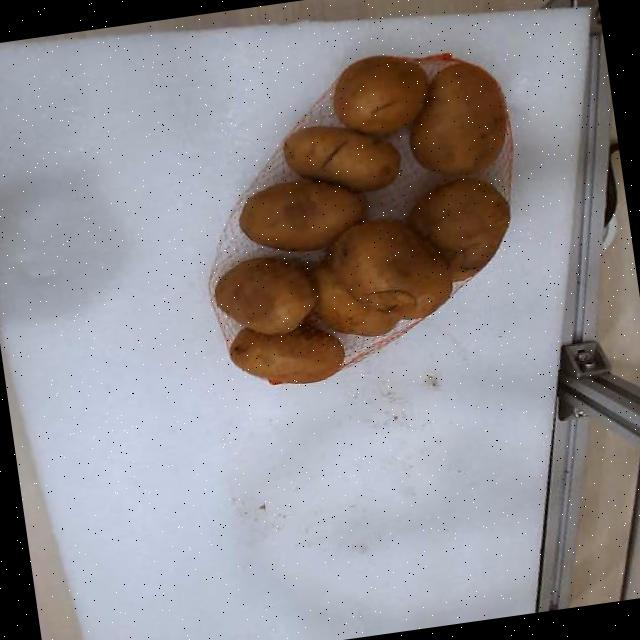potato: (329, 219, 451, 318), (411, 62, 505, 174), (407, 177, 509, 280), (239, 178, 361, 250), (215, 256, 315, 334), (283, 125, 398, 191), (333, 54, 426, 134), (229, 325, 343, 384), (306, 263, 398, 336)
